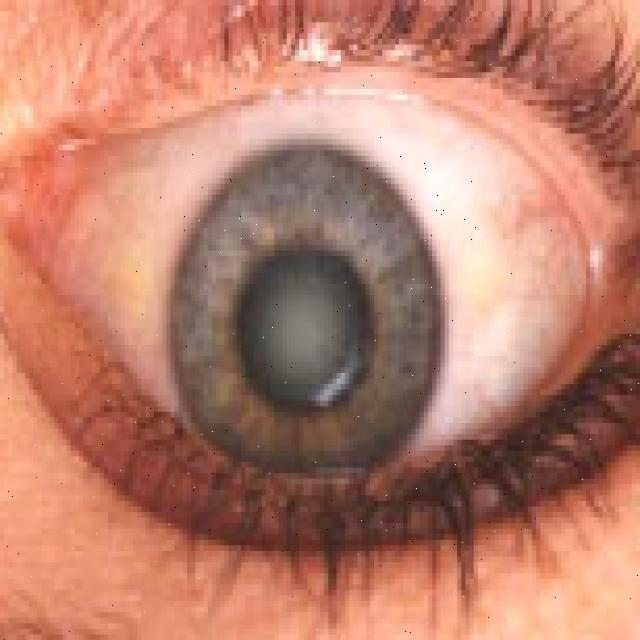Cataract: (164, 137, 442, 523)
